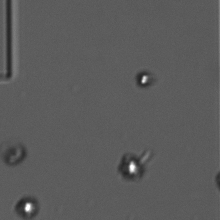Dead Cell: (4, 141, 28, 165)
Living Cell: (121, 153, 147, 179), (19, 199, 41, 215), (135, 72, 155, 87)
